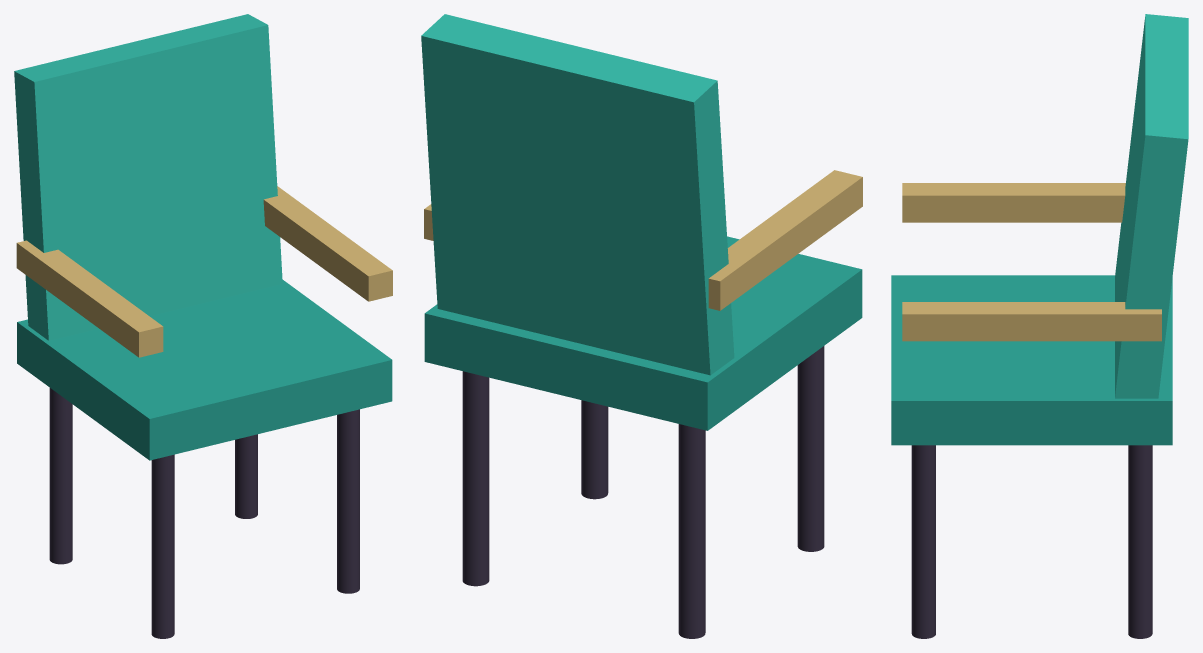
3 renders of one model, left to right at view 1: azimuth 30°, elevation 25°; view 2: azimuth 150°, elevation 25°; view 3: azimuth 270°, elevation 25°, orthographic. The views are drawn at different scales.
Visible parts, largest first — view 1: back, seat, arm_l, arm_r, leg_fl, leg_fr, leg_bl, leg_br; view 2: back, seat, arm_l, leg_bl, leg_br, leg_fl, leg_fr; view 3: seat, back, arm_r, arm_l, leg_fr, leg_br.
Boxes of the visible parts, box(x1,y1,x2,y2) form: back: box(14, 14, 282, 340); seat: box(17, 280, 392, 460); arm_l: box(16, 240, 163, 357); arm_r: box(263, 186, 392, 301); leg_fl: box(151, 454, 174, 638); leg_fr: box(337, 409, 359, 593); leg_bl: box(49, 388, 72, 564); leg_br: box(235, 434, 257, 518); back: box(421, 14, 734, 375); seat: box(424, 236, 862, 430); arm_l: box(708, 170, 862, 310); leg_bl: box(678, 424, 705, 638); leg_br: box(462, 371, 489, 586); leg_fl: box(797, 346, 824, 551); leg_fr: box(581, 400, 608, 499); seat: box(891, 275, 1172, 445); back: box(1115, 14, 1188, 398); arm_r: box(902, 302, 1161, 341); arm_l: box(902, 183, 1125, 222); leg_fr: box(911, 445, 935, 638); leg_br: box(1128, 445, 1152, 638).
Size of the model in its own units: 0.575 by 1.04 by 0.549.
